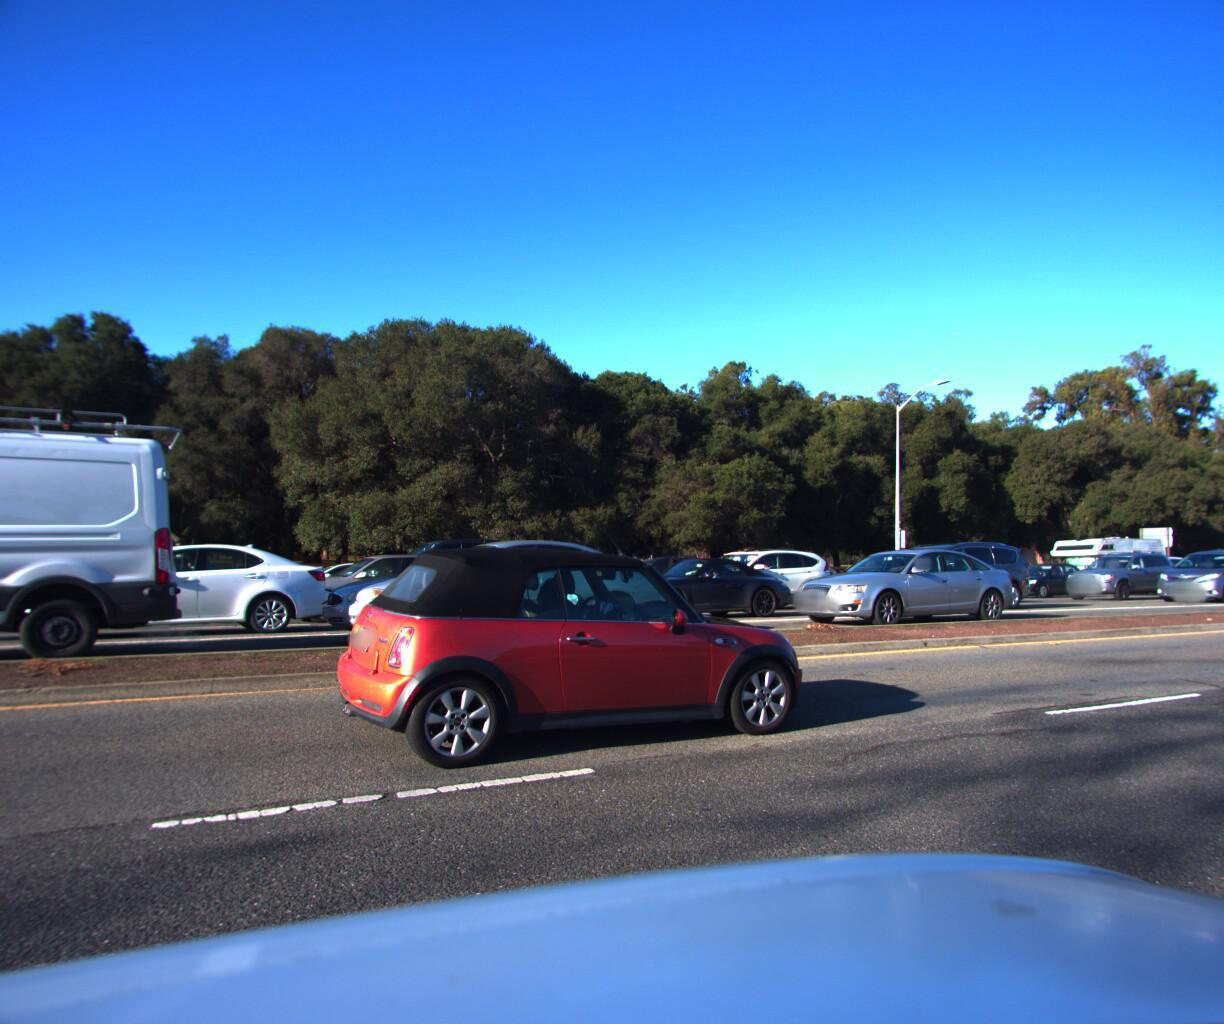car: (325, 546, 811, 790), (304, 531, 689, 652), (777, 543, 1035, 627), (336, 531, 579, 616), (255, 551, 505, 628), (584, 550, 806, 624), (842, 533, 1043, 614), (252, 556, 427, 616), (668, 542, 828, 607), (671, 543, 835, 606), (1055, 545, 1183, 598), (596, 553, 730, 601), (1146, 543, 1224, 601), (989, 559, 1097, 596)
other_vehicle: (1042, 531, 1170, 591), (1209, 526, 1224, 583)
